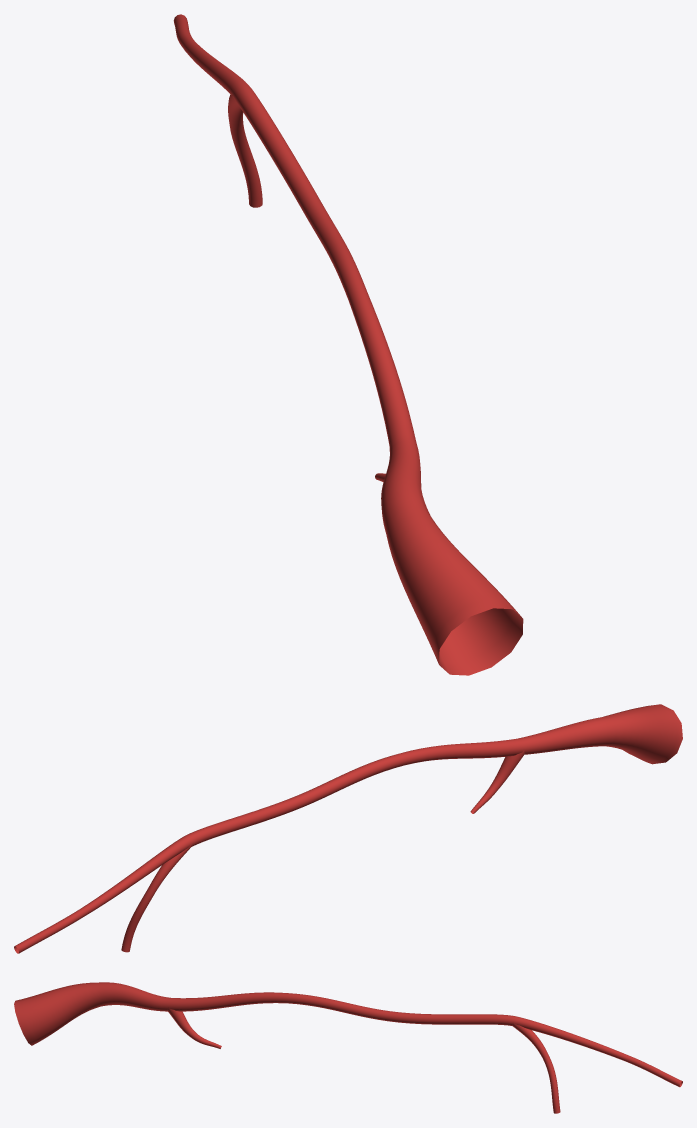
The picture shows the model from 3 angles, top to bottom: view 1: azimuth 30°, elevation 25°; view 2: azimuth 150°, elevation 25°; view 3: azimuth 270°, elevation 25°; orthographic projection. The views are drawn at different scales.
Visible parts, largest first — view 1: 右侧下牙槽动脉下颌舌骨肌支; view 2: 右侧下牙槽动脉下颌舌骨肌支; view 3: 右侧下牙槽动脉下颌舌骨肌支.
Part boxes in pixels (x1,y1,x2,y2): 右侧下牙槽动脉下颌舌骨肌支: (173, 14, 523, 675); 右侧下牙槽动脉下颌舌骨肌支: (14, 704, 682, 953); 右侧下牙槽动脉下颌舌骨肌支: (14, 982, 682, 1113).
Bounding box in the file's own units: 0.00998 × 0.00418 × 0.0286.
